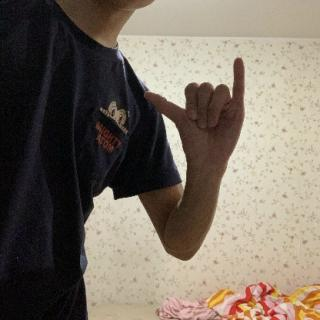YA: (142, 54, 253, 167)
